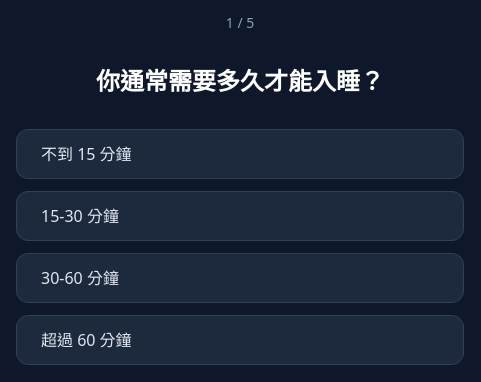
Test: SleepAssessment — Navigation (AC#2, AC#3) › should auto-advance to Q2 after selecting an option on Q1
Click the button with test id "option-0" at (86, 154), box x1=16 y1=129 x2=464 y2=179
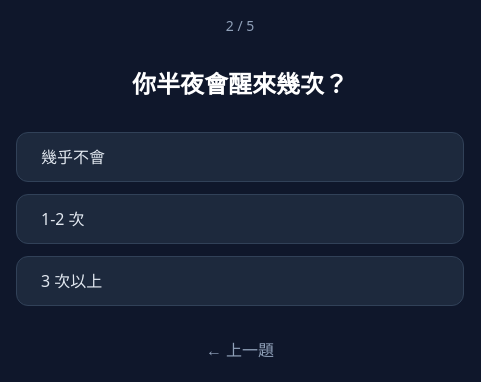
Check: the text "你半夜會醒來幾次" is shown, box x1=132 y1=67 x2=348 y2=100
Check: the text "2 / 5" is shown, box x1=226 y1=16 x2=254 y2=36
